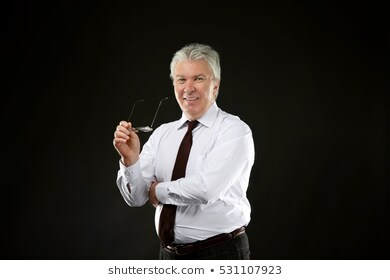F_belt: (160, 224, 242, 252)
F_shirt: (115, 108, 253, 234)
F_tie: (158, 118, 199, 240)
